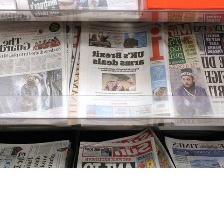news_paper: (72, 16, 170, 123), (0, 18, 71, 124), (165, 18, 224, 118), (73, 125, 175, 173), (14, 0, 141, 20), (0, 137, 73, 169), (162, 132, 224, 169)
